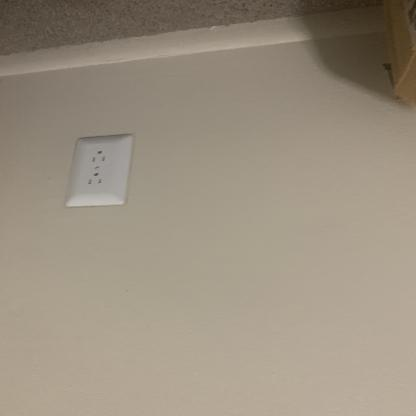OUTLET: (62, 135, 134, 208)
